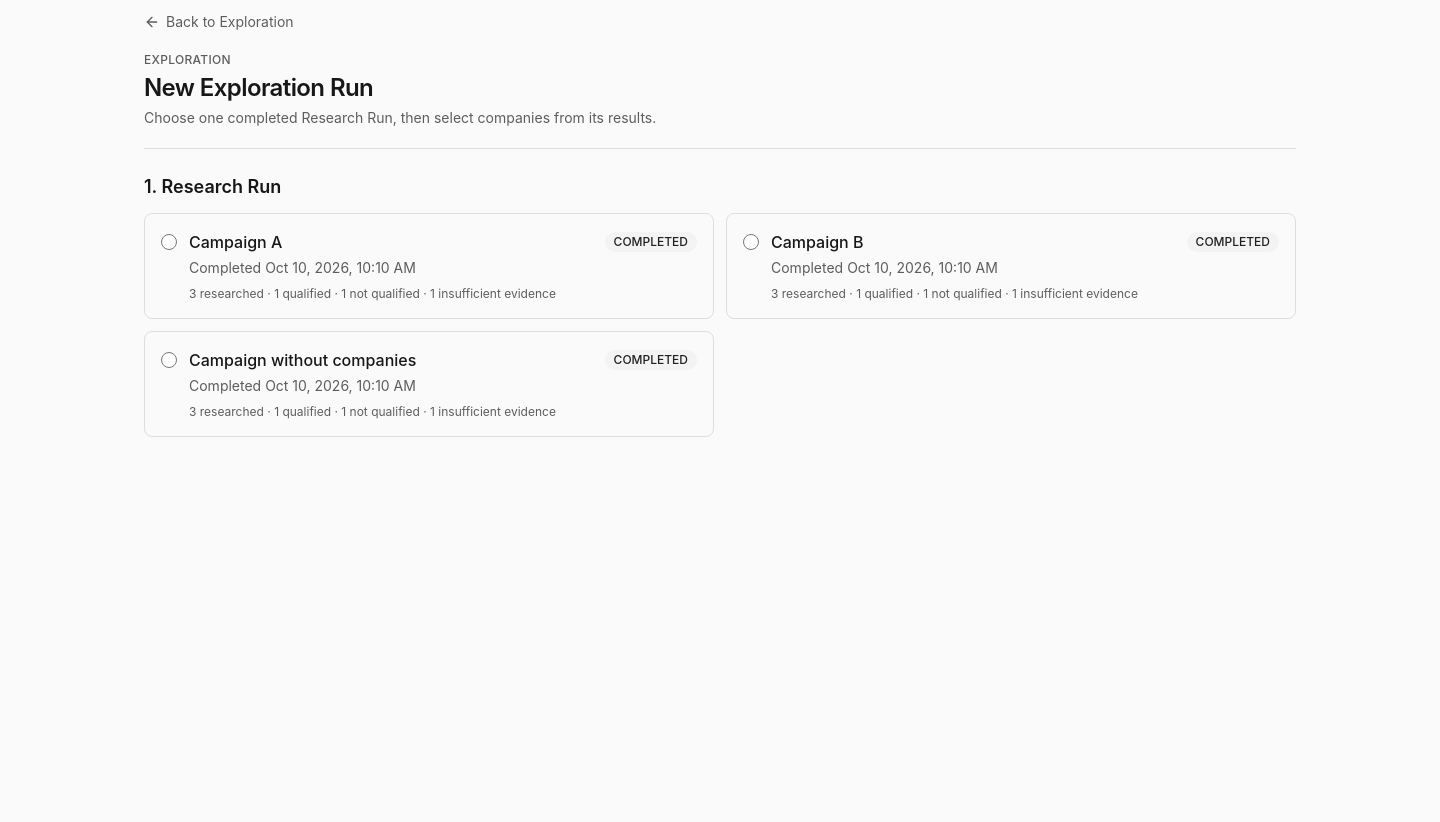
NewExplorationRunPage › shows an empty state when the chosen ResearchRun has no company results
Step 1. Click the radio button labelled "Campaign without companies" → (169, 360), box [161, 352, 177, 368]
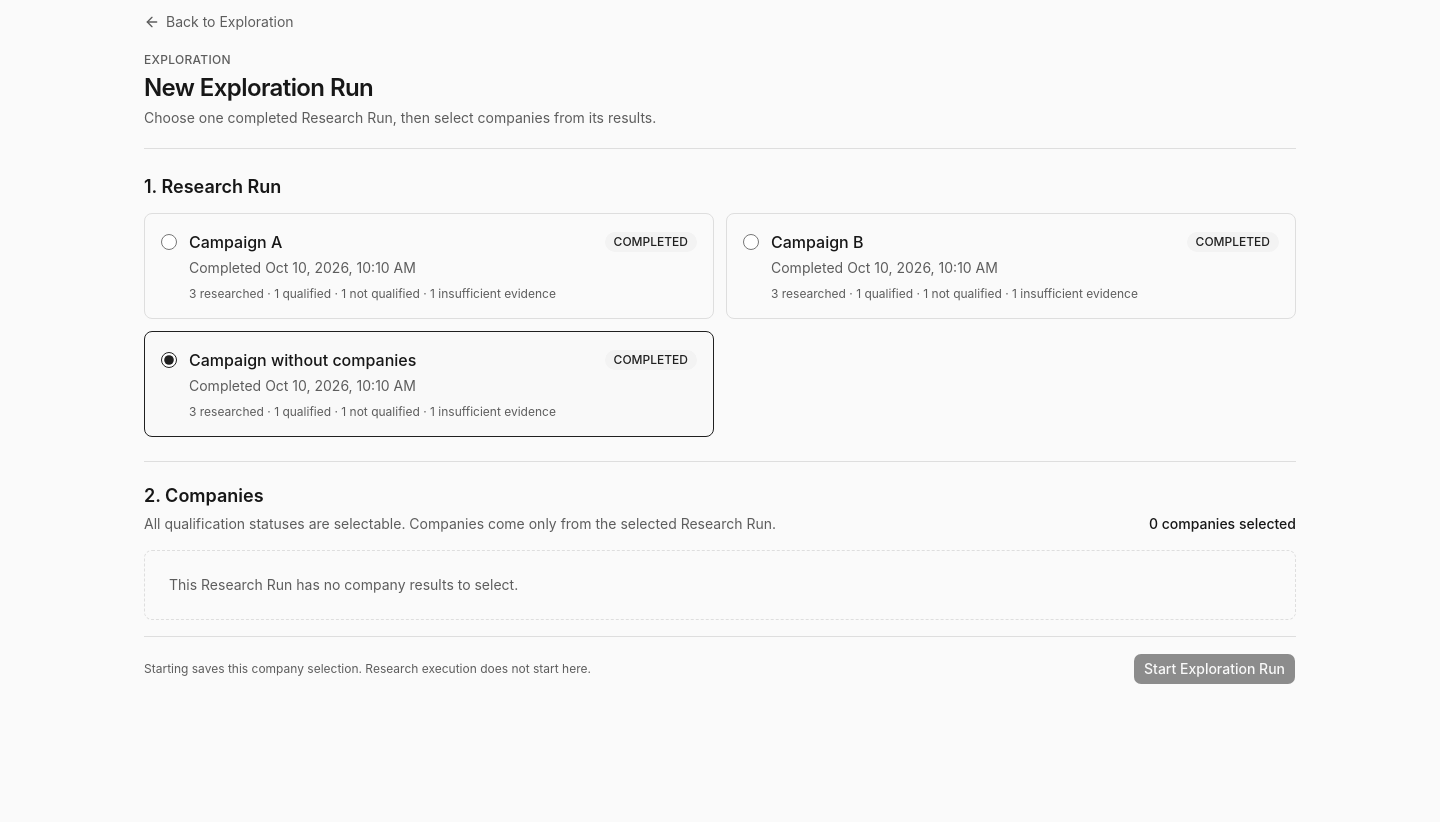
Check: the text "This Research Run has no company results to select." is shown, box [144, 550, 1296, 620]
Check: the button "Start Exploration Run" is disabled, box [1133, 653, 1296, 685]
